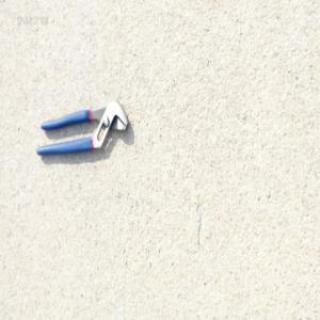Pliertrack_idkeyframe: (34, 96, 129, 158)
